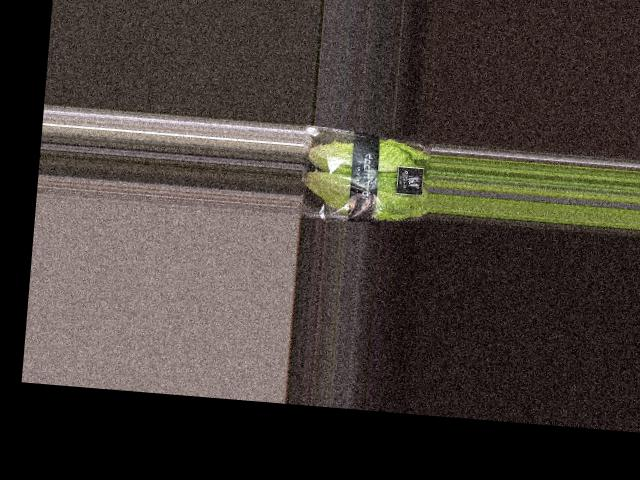lettuce: (298, 125, 431, 221)
